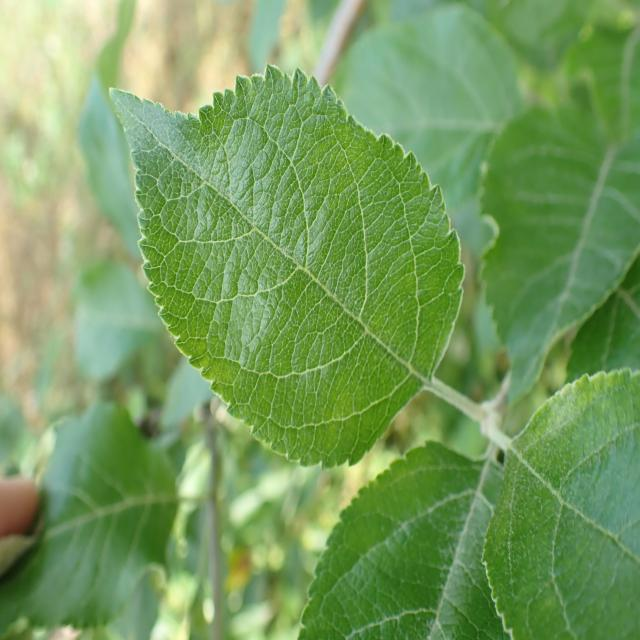healthy: (108, 62, 466, 471), (482, 366, 640, 640), (299, 438, 512, 640), (0, 398, 180, 636)
